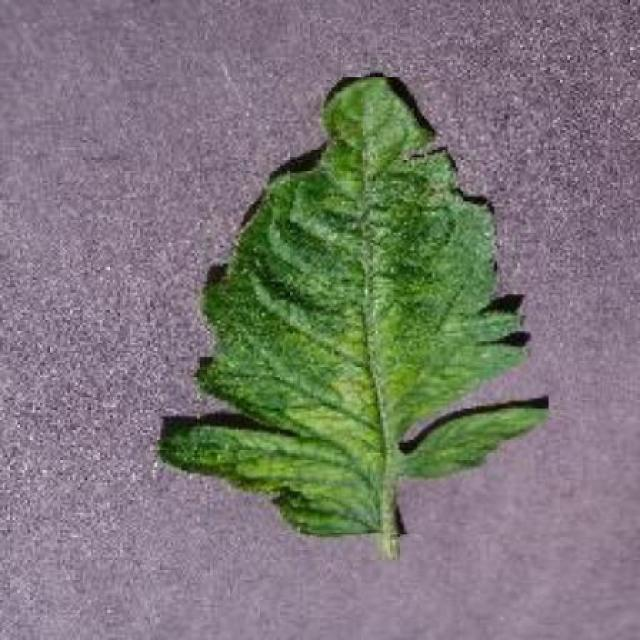Mosaic Virus: (157, 78, 549, 535)
